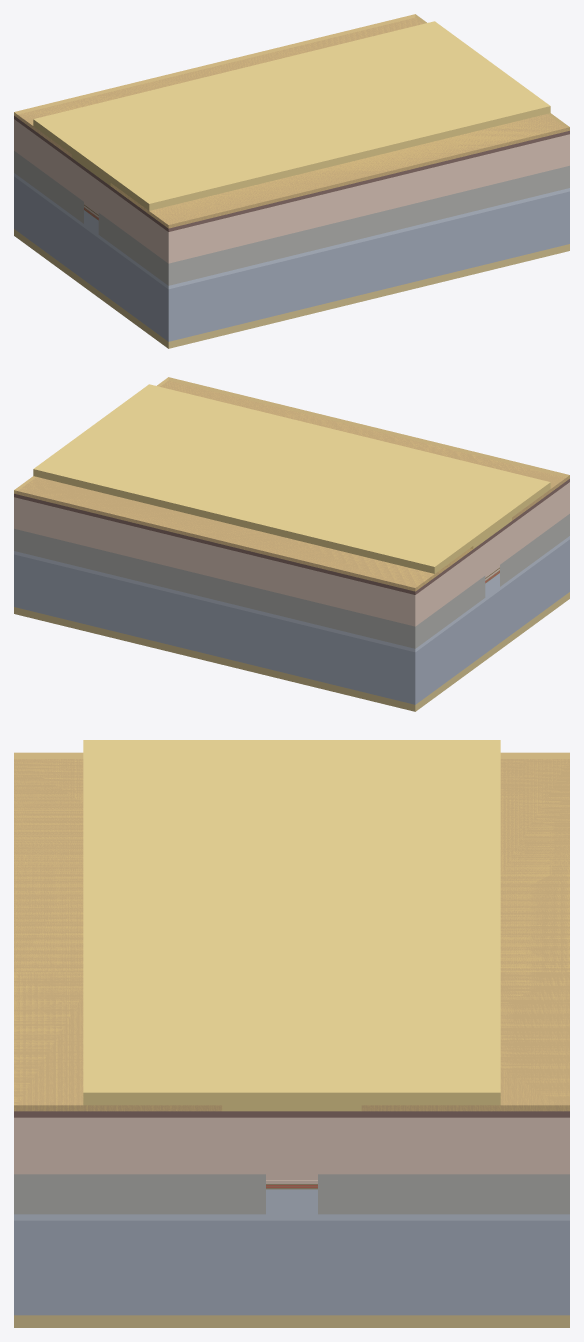
The model's file is stack-bh.glb.
3 views of the same model, one above another, from view 1: azimuth 30°, elevation 25°; view 2: azimuth 150°, elevation 25°; view 3: azimuth 270°, elevation 25° (orthographic). The views are drawn at different scales.
Visible parts, largest first — view 1: pmetal, sub, pinp, sin, feinp, cap, nmetal, ninp; view 2: pmetal, sub, pinp, sin, cap, feinp, nmetal, ninp; view 3: pmetal, sub, sin, cap, pinp, feinp, nmetal, ninp.
Boxes of the visible parts, x1,y1,x2,y2 form: pmetal: [33, 21, 550, 210]; sub: [14, 176, 569, 341]; pinp: [14, 119, 569, 263]; sin: [14, 14, 569, 228]; feinp: [14, 151, 569, 285]; cap: [14, 18, 569, 231]; nmetal: [14, 229, 569, 348]; ninp: [14, 173, 569, 289]; pmetal: [33, 384, 550, 573]; sub: [14, 539, 569, 704]; pinp: [14, 482, 569, 626]; sin: [14, 377, 569, 591]; cap: [14, 381, 569, 594]; feinp: [14, 514, 569, 648]; nmetal: [14, 592, 569, 711]; ninp: [14, 536, 569, 652]; pmetal: [83, 740, 500, 1111]; sub: [14, 1220, 569, 1315]; sin: [14, 752, 569, 1111]; cap: [14, 759, 569, 1117]; pinp: [14, 1117, 569, 1183]; feinp: [14, 1174, 569, 1214]; nmetal: [14, 1315, 569, 1327]; ninp: [14, 1189, 569, 1220].
Bounding box in the file's own units: 24 × 7.47 × 16.
